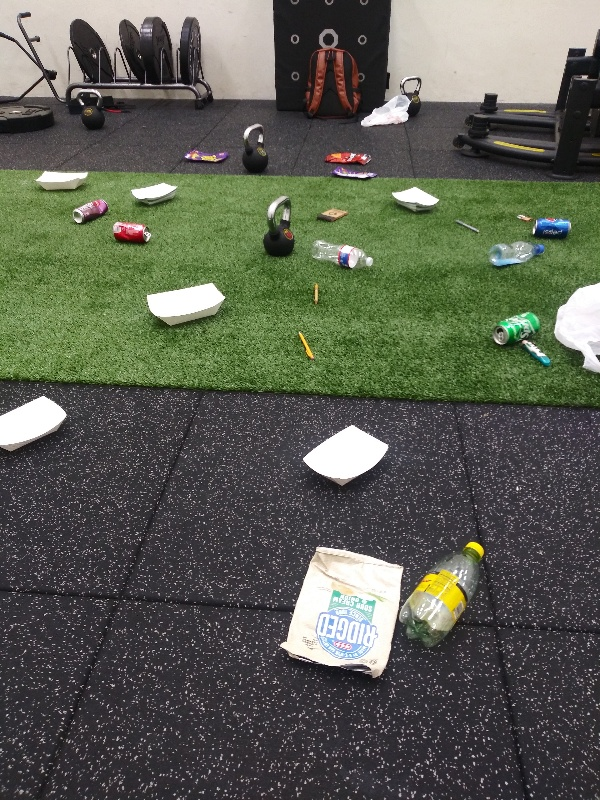bag: (280, 545, 407, 685), (326, 162, 383, 184), (315, 149, 377, 167), (177, 149, 232, 168)
bottle: (396, 538, 491, 656), (309, 235, 380, 273), (484, 239, 549, 268)
can: (488, 307, 544, 348), (525, 212, 577, 245), (67, 197, 114, 227), (108, 220, 154, 247)
plate: (294, 420, 395, 491), (1, 391, 72, 455), (143, 280, 231, 330), (385, 182, 443, 217), (34, 166, 96, 196), (128, 179, 185, 210)
